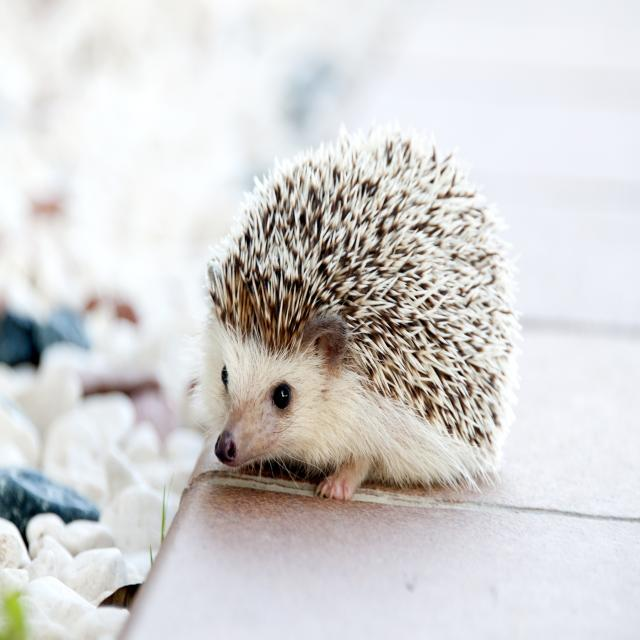animal: (199, 125, 516, 501)
